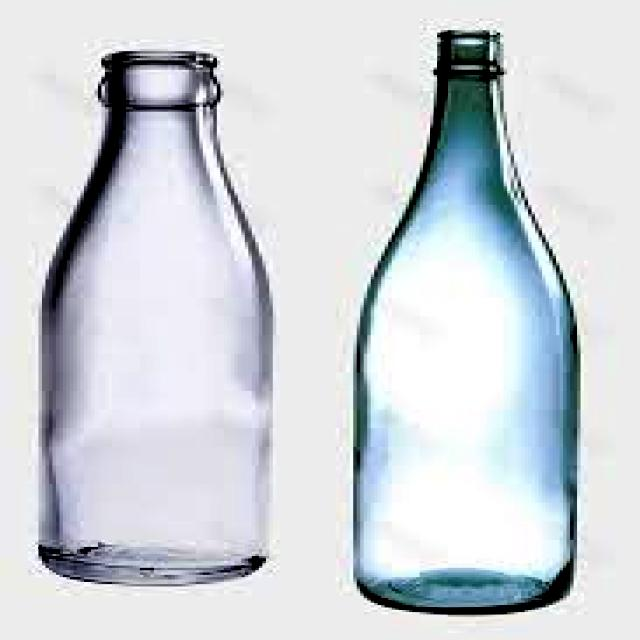Glass: (348, 25, 583, 616), (32, 44, 278, 588)
